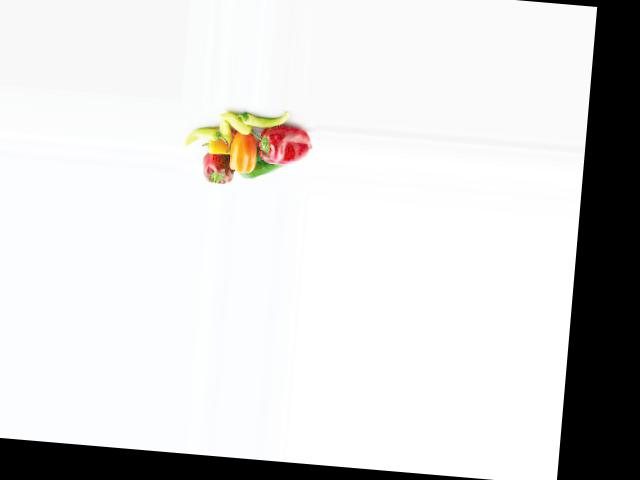bell_pepper: (233, 107, 293, 129)
